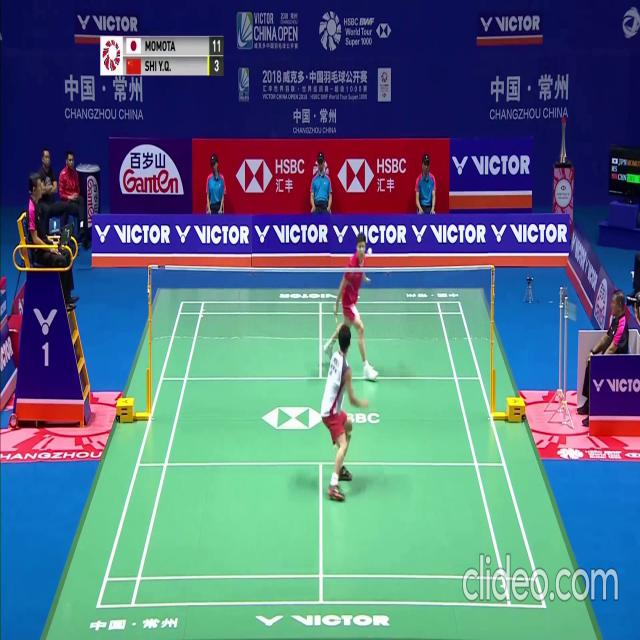Shuttlecock: (367, 248, 372, 256)
